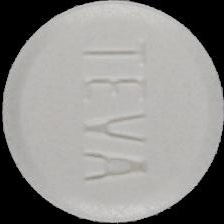68788-6450: (0, 0, 224, 224)
